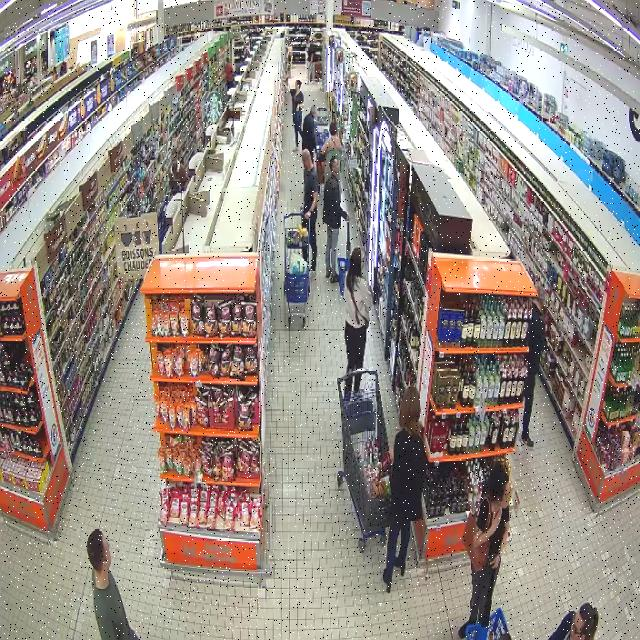bags: (462, 503, 489, 571)
hands: (491, 507, 501, 531), (488, 555, 501, 569), (304, 211, 311, 219), (345, 214, 351, 222)
person: (458, 460, 512, 638), (383, 386, 426, 592), (87, 528, 137, 639), (344, 248, 372, 372), (323, 157, 347, 282), (302, 149, 318, 274)
